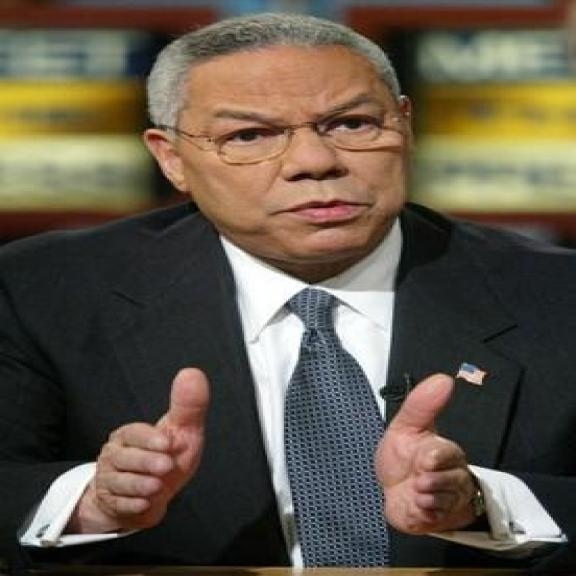face: (136, 39, 427, 261)
